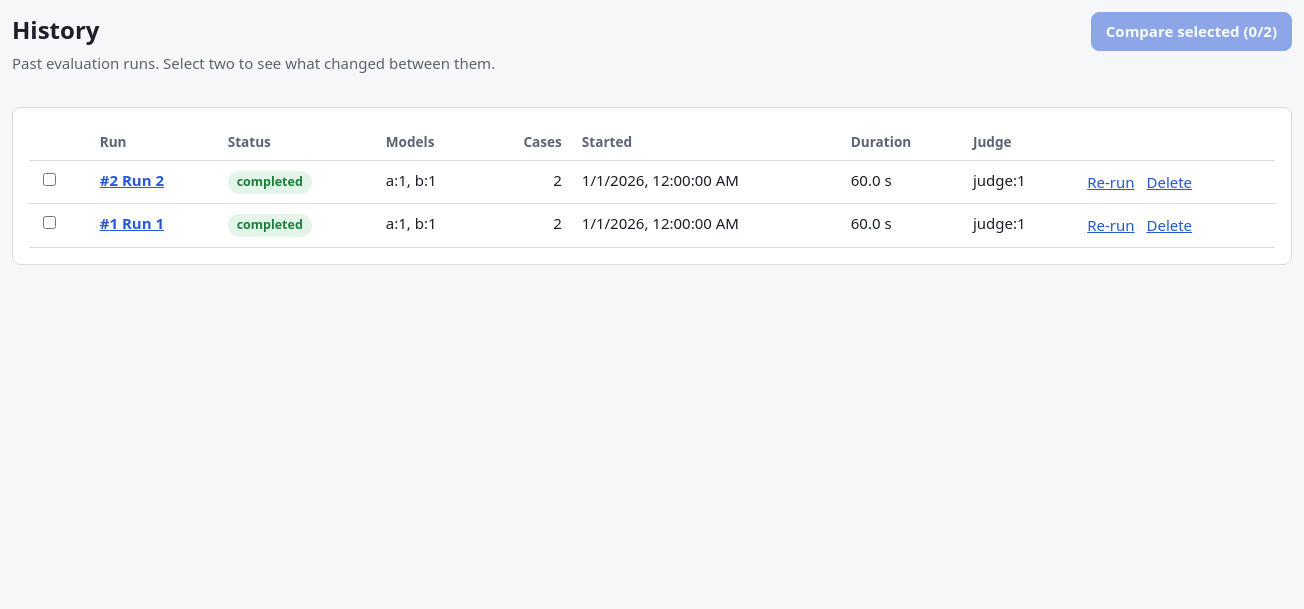
Test: 9.9 history page › explains likely reasons for a latency/throughput change behind a "Why?" disclosure
Click the checkbox named "Select run 2 for comparison" at (50, 179), box [43,173,56,186]
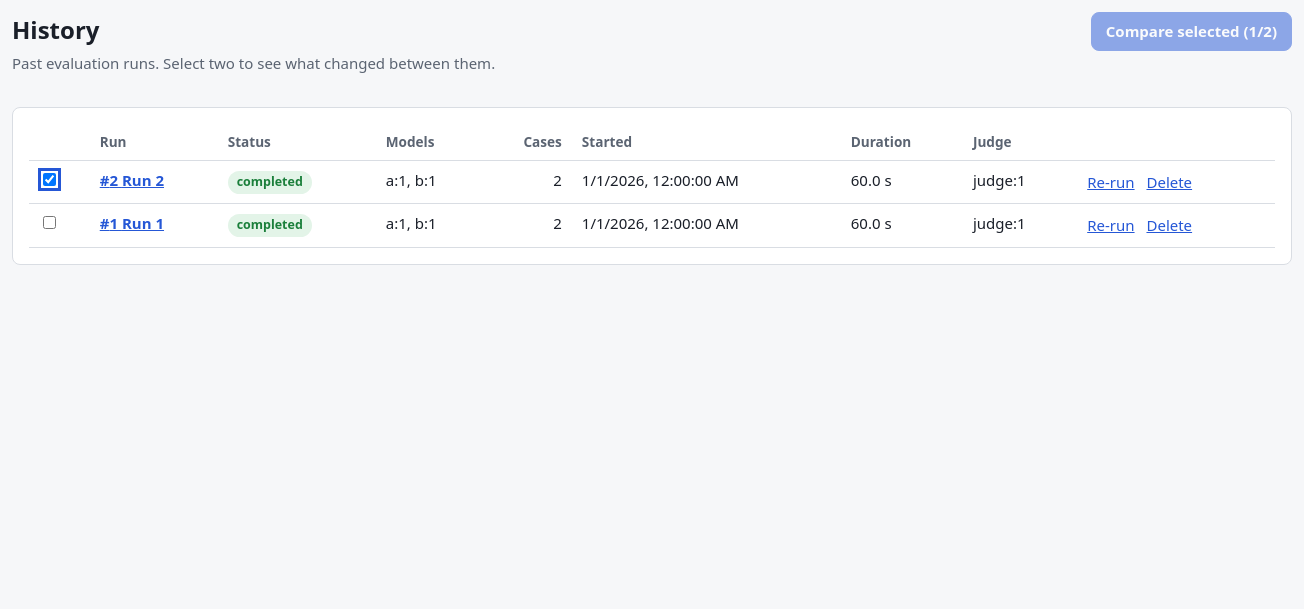
Click the checkbox named "Select run 1 for comparison" at (50, 223), box [43,216,56,229]
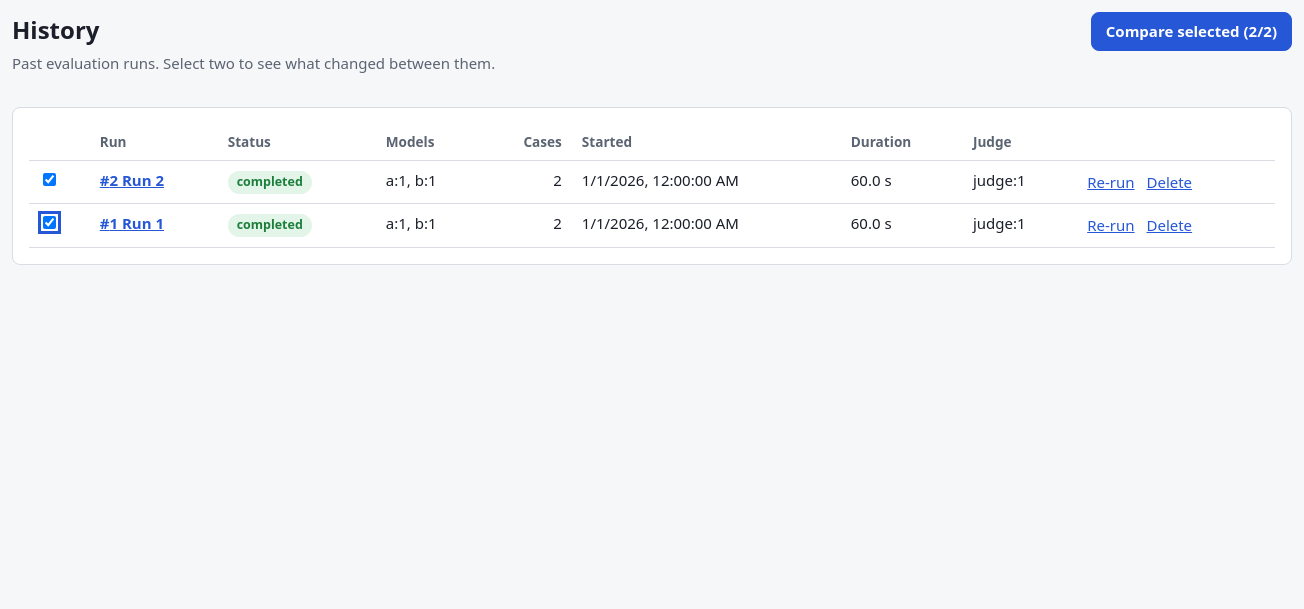
Click the button "Compare selected (2/2)" at (1191, 31), box [1091,12,1292,50]
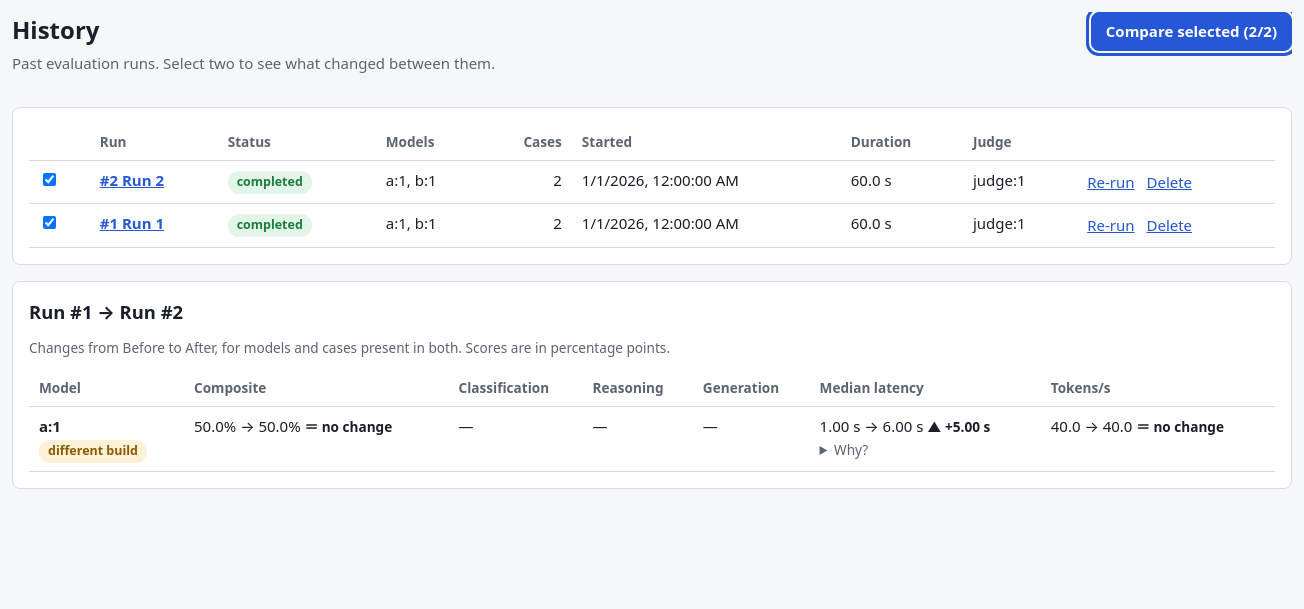
Expected: the text "cold-start" is not shown
Click the heading "Why?" at (851, 449), box [834,440,868,459]
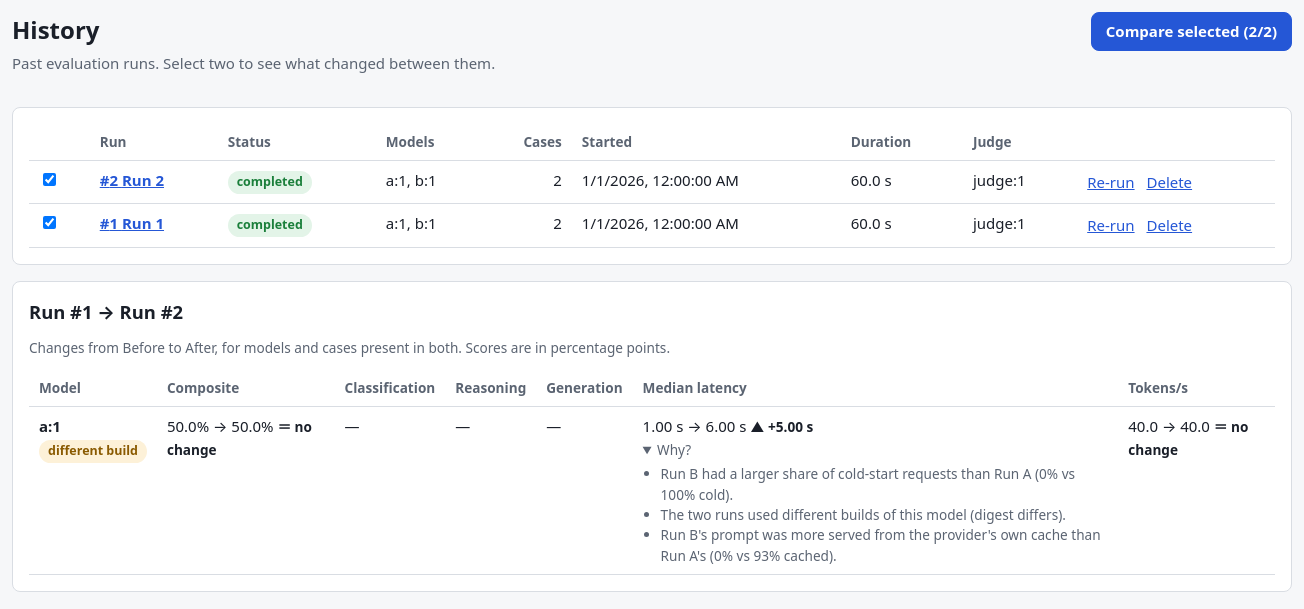
Result: the list item "cold-start" is shown at [661,464,1075,504]
Result: the list item "different builds" is shown at [661,505,1066,524]
Result: the list item "served from the provider's own cache" is shown at [661,525,1101,565]
